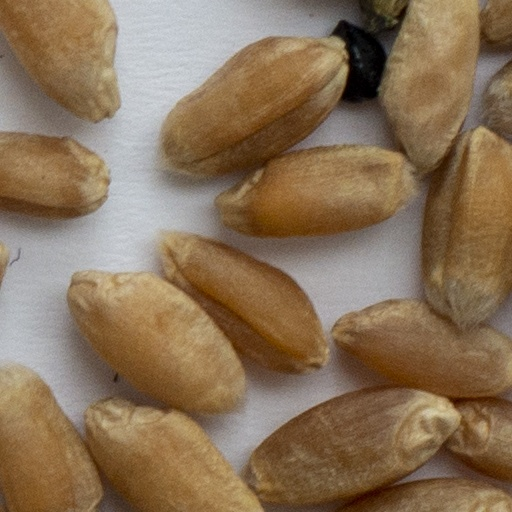Fallopia-Convolvulus-poly: (334, 16, 385, 100)
